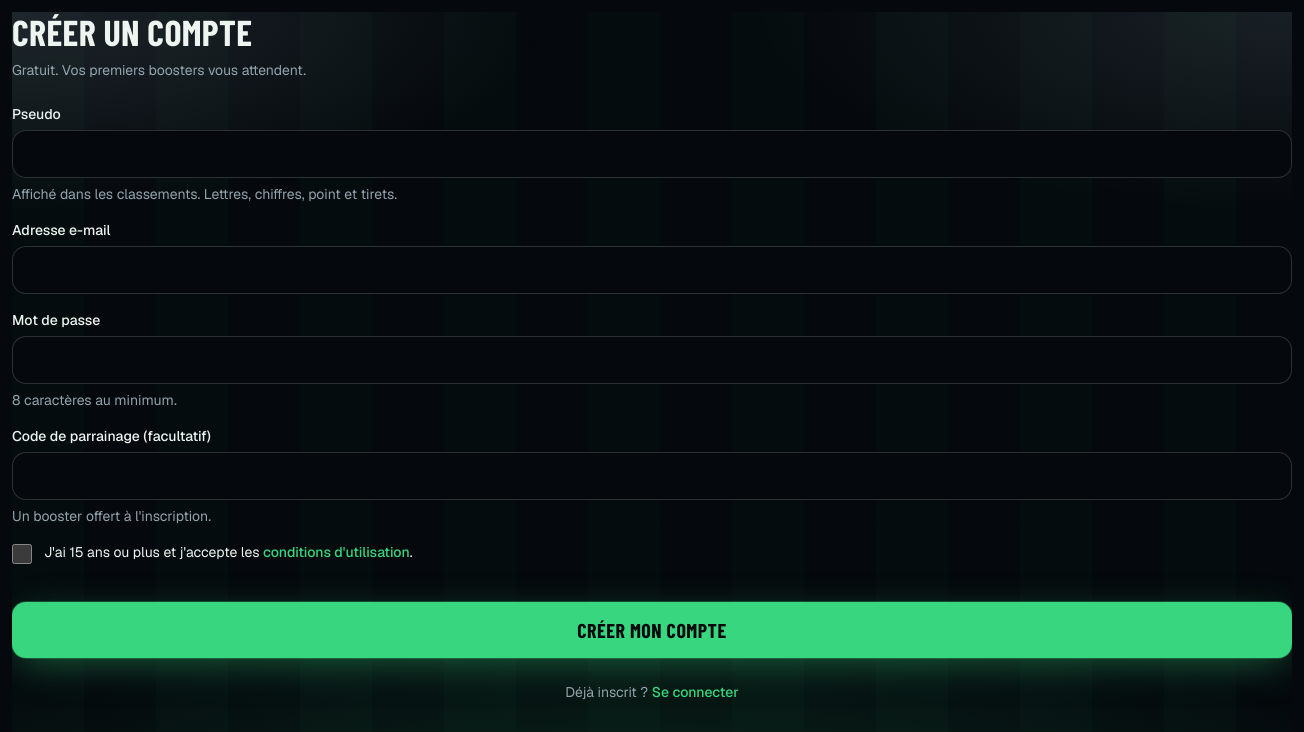
écran d'inscription › affiche les erreurs de chaque champ et garde la saisie
This screenshot has width=1304, height=732.
Type "Ovalie" into the field labelled "Pseudo" at (652, 154), box left=12, top=130, right=1292, bottom=178
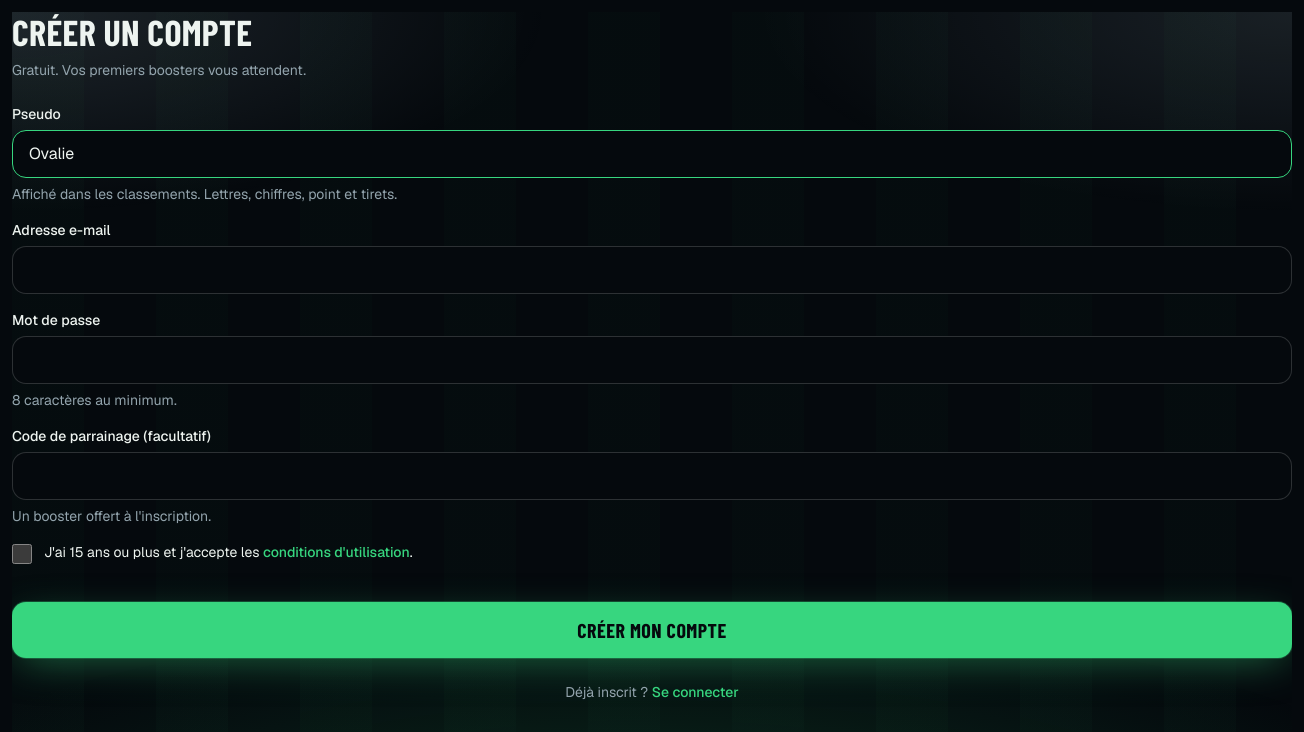
Type "a@b.fr" into the field labelled "Adresse e-mail" at (652, 270), box left=12, top=246, right=1292, bottom=294
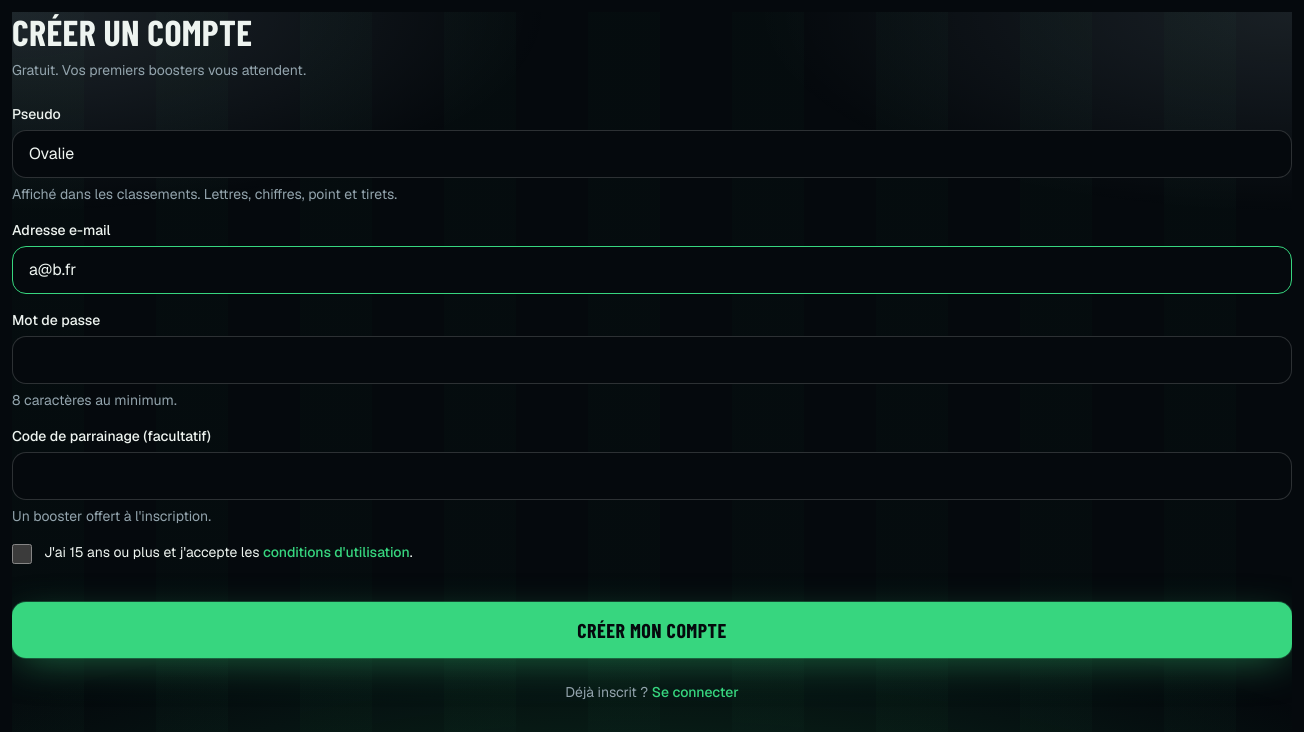
Type "MotDePasse-2026" into the password field labelled "Mot de passe" at (652, 360), box left=12, top=336, right=1292, bottom=384
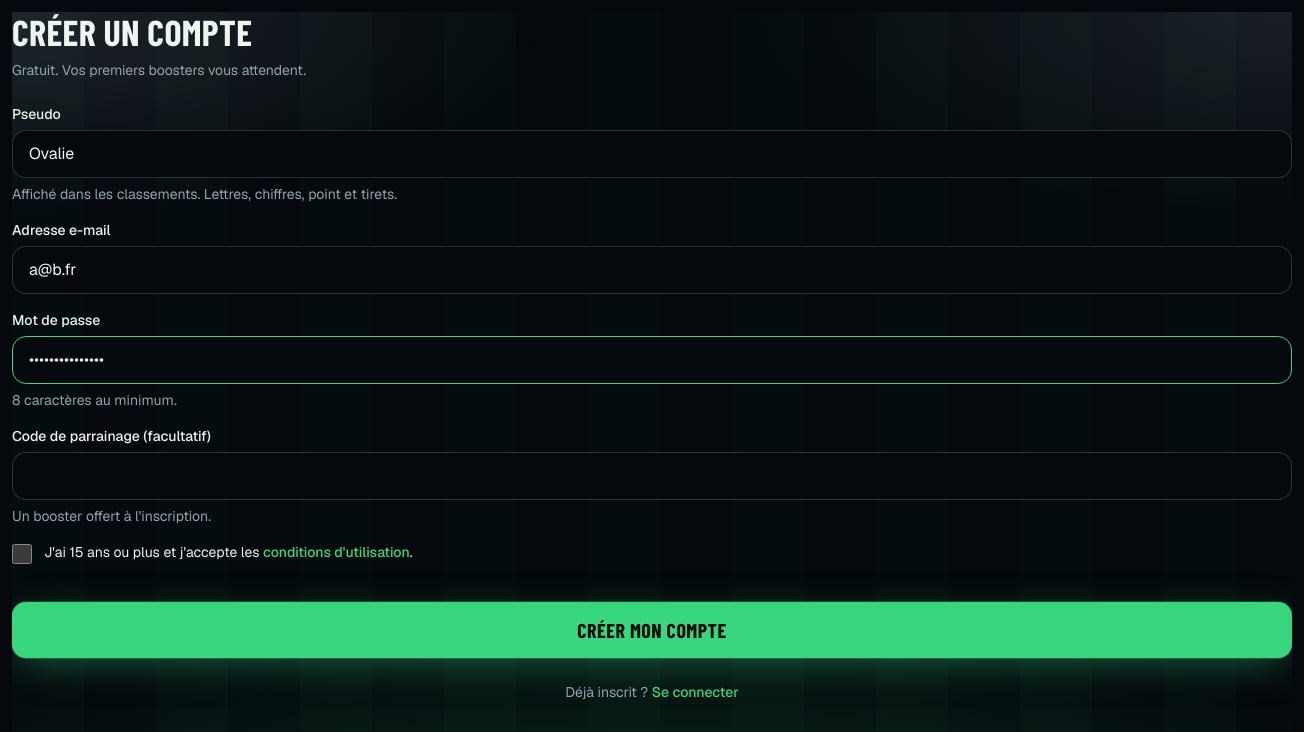
Click the checkbox labelled "J'ai 15 ans ou plus" at (22, 554), box left=12, top=544, right=32, bottom=564
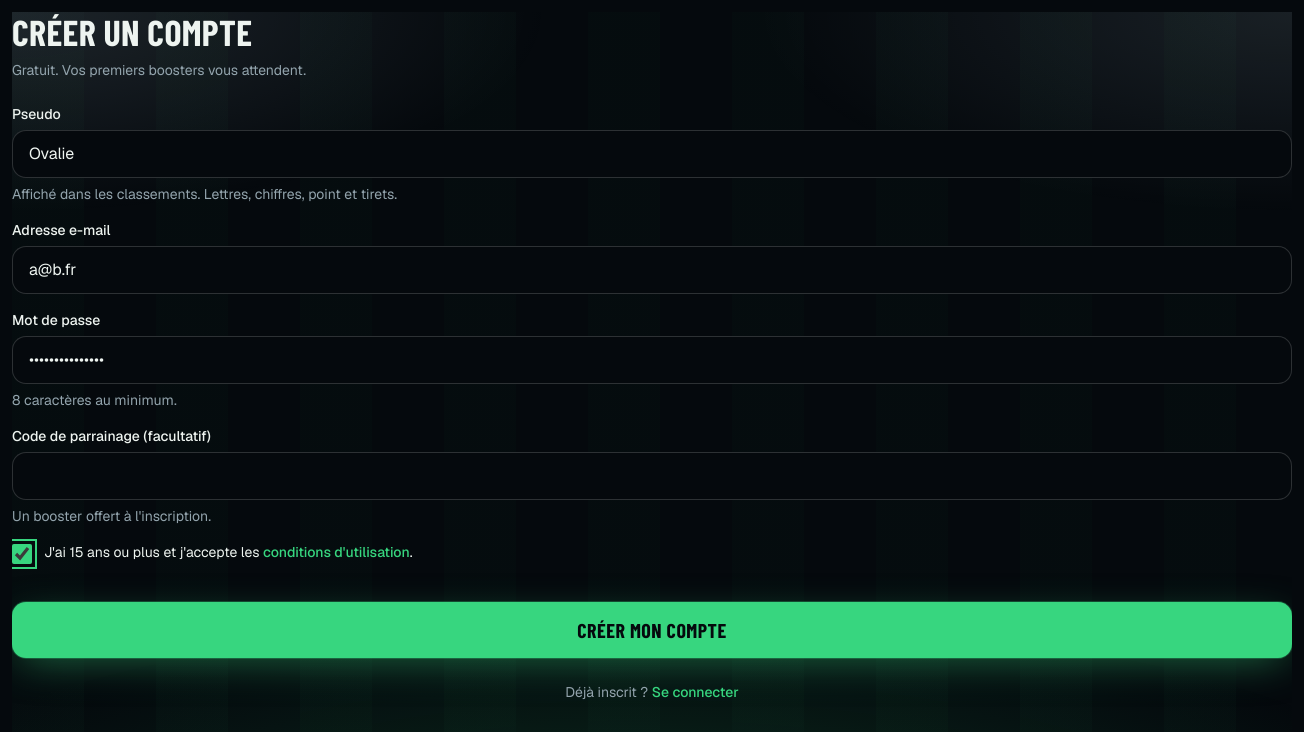
Click the button "Créer mon compte" at (652, 630), box left=12, top=602, right=1292, bottom=658
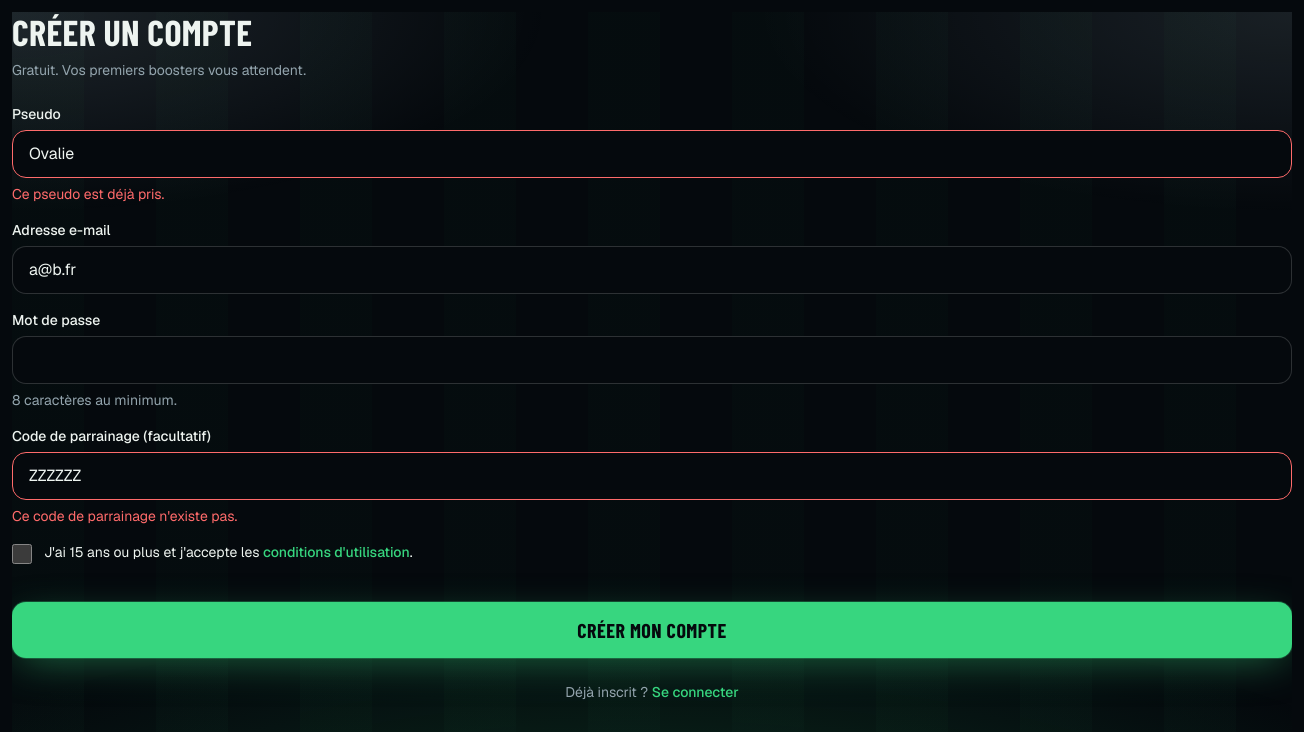
Now the text "Ce pseudo est déjà pris." is shown, box left=12, top=185, right=164, bottom=203
Now the text "Ce code de parrainage n'existe pas." is shown, box left=12, top=507, right=237, bottom=525
Now the field labelled "Code de parrainage (facultatif)" holds "ZZZZZZ", box left=12, top=452, right=1292, bottom=500
